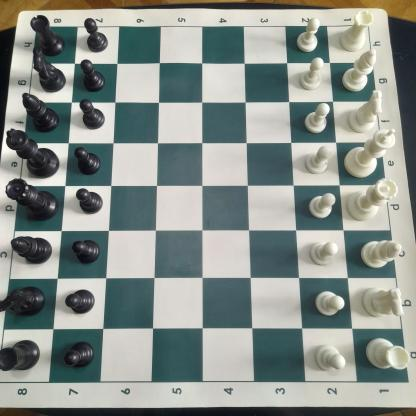black-bishop: (8, 231, 55, 268), (20, 91, 61, 133)
black-king: (5, 127, 60, 180)
black-knight: (0, 282, 46, 321), (30, 47, 68, 94)
black-pawn: (80, 16, 113, 54), (63, 339, 96, 370), (79, 58, 108, 93), (79, 97, 107, 131), (64, 287, 96, 316), (73, 146, 103, 176), (75, 186, 104, 217), (71, 238, 102, 267)
black-queen: (4, 177, 60, 223)
black-rook: (28, 13, 67, 58), (0, 339, 42, 373)
white-bishop: (340, 49, 380, 95), (360, 238, 404, 272)
white-king: (341, 128, 396, 179)
white-knight: (344, 90, 384, 134), (362, 286, 405, 319)
white-pawn: (294, 17, 323, 56), (314, 342, 348, 374), (304, 101, 332, 136), (299, 57, 326, 92), (308, 239, 339, 268), (304, 145, 332, 176), (306, 192, 337, 220), (314, 290, 345, 317)
white-queen: (343, 178, 401, 224)
white-rook: (364, 335, 411, 372), (338, 9, 375, 53)
